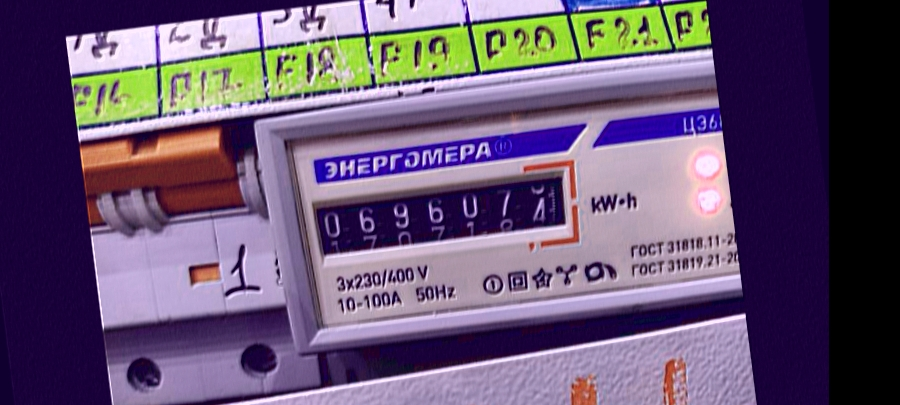0: (458, 188, 480, 220), (320, 209, 341, 239)
4: (528, 195, 547, 225)
6: (423, 195, 446, 226), (355, 203, 377, 233)
7: (494, 186, 514, 218)
9: (390, 200, 410, 230)
screen: (295, 151, 589, 275)
